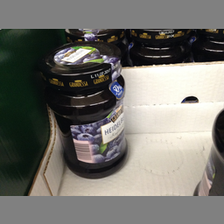jam: (41, 41, 130, 178)
